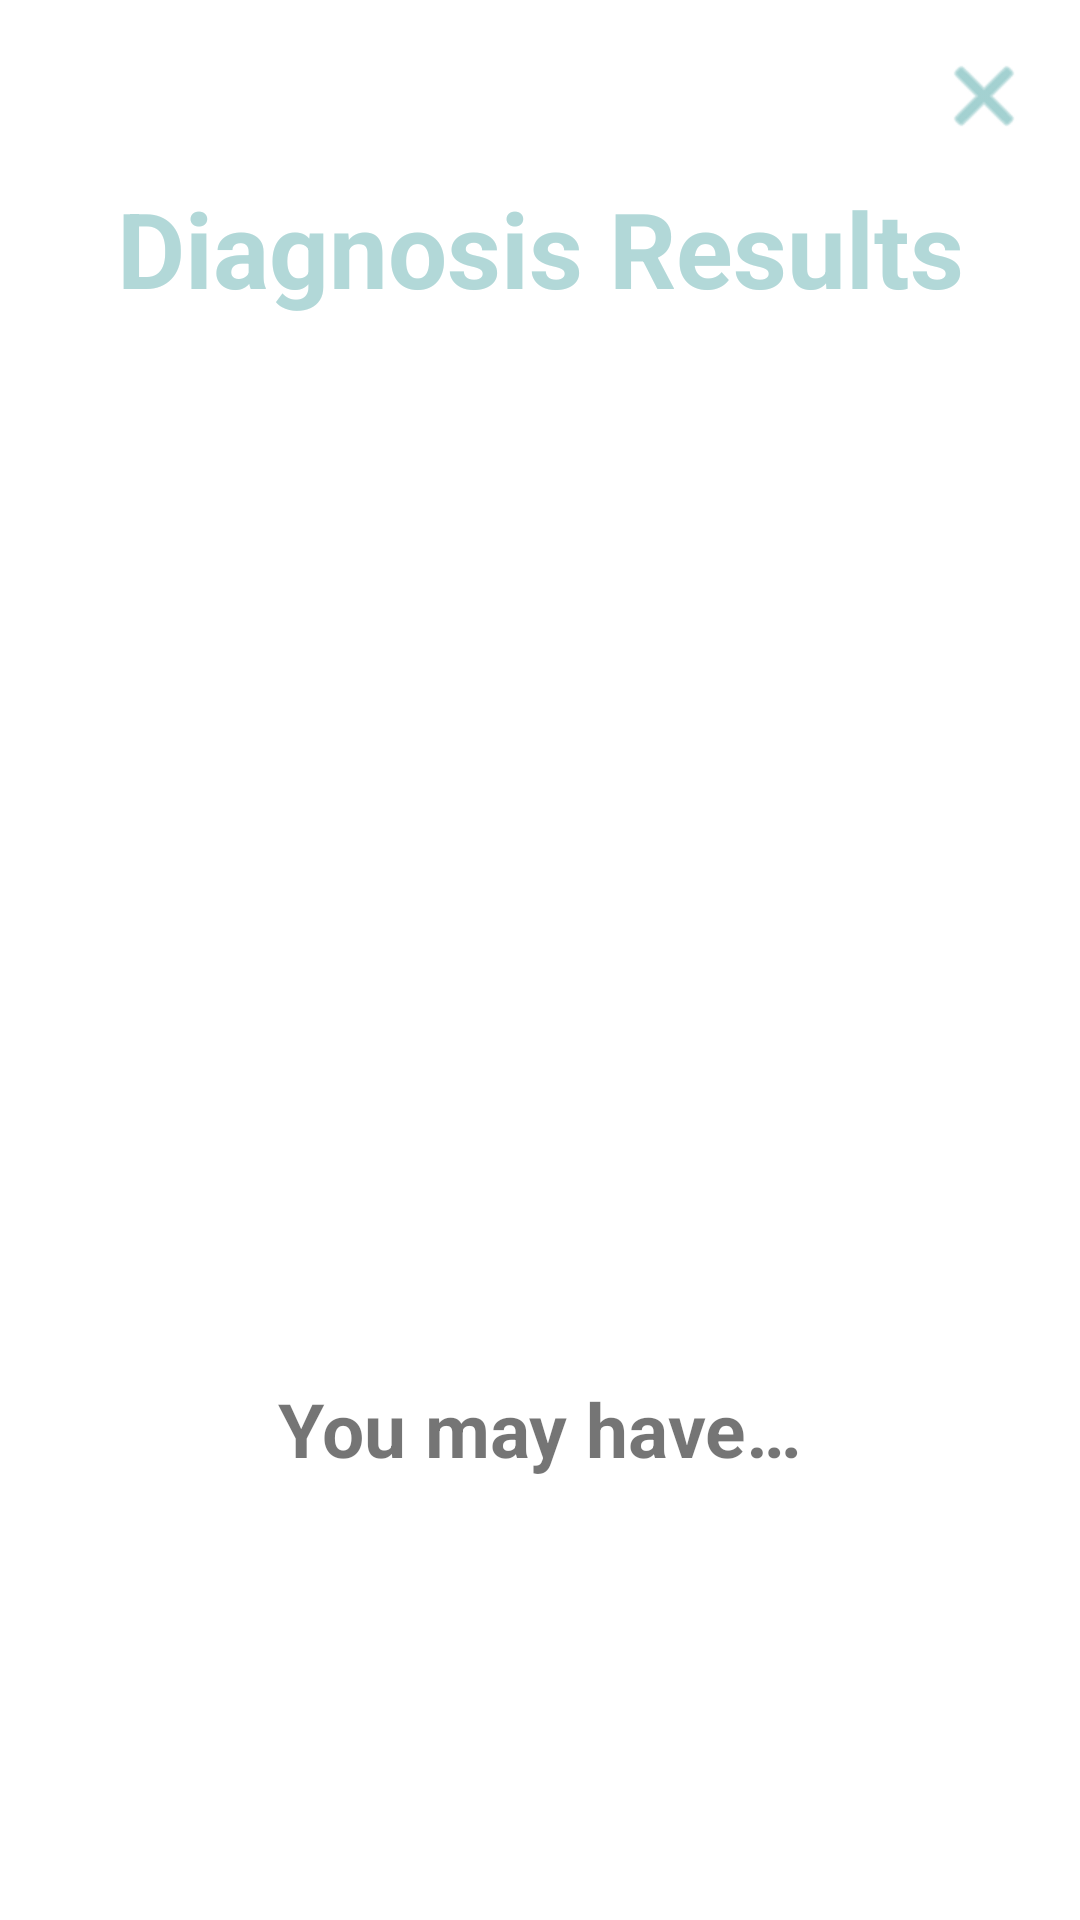

Named icons in this screenshot (1080 × 1920) and their bounding boxes, (x1=x1, y1=y1, x2=x2, y2=y2):
Close Button: (x1=954, y1=66, x2=1014, y2=126)
